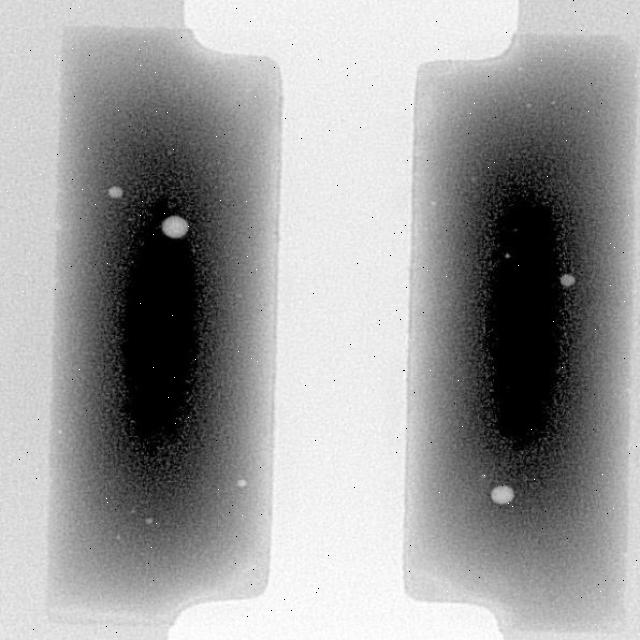Chip: (404, 37, 634, 629), (52, 29, 280, 619)
void: (161, 216, 188, 238), (491, 485, 514, 505), (561, 274, 573, 288), (108, 186, 121, 198), (237, 479, 247, 486), (145, 518, 152, 524), (505, 252, 510, 260)
